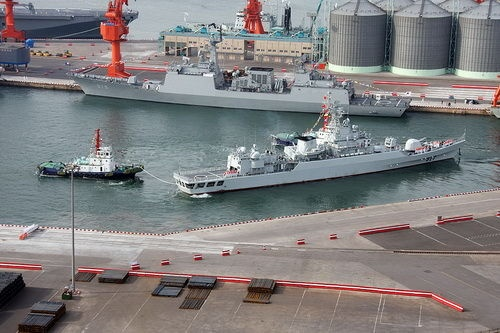otherboat: (38, 131, 146, 183)
warship: (173, 91, 466, 197), (73, 33, 412, 117)
